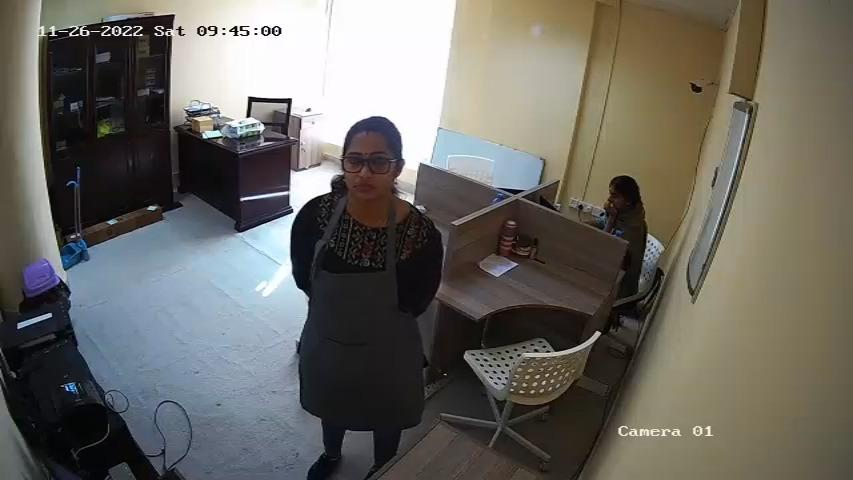apron: (304, 205, 419, 386)
